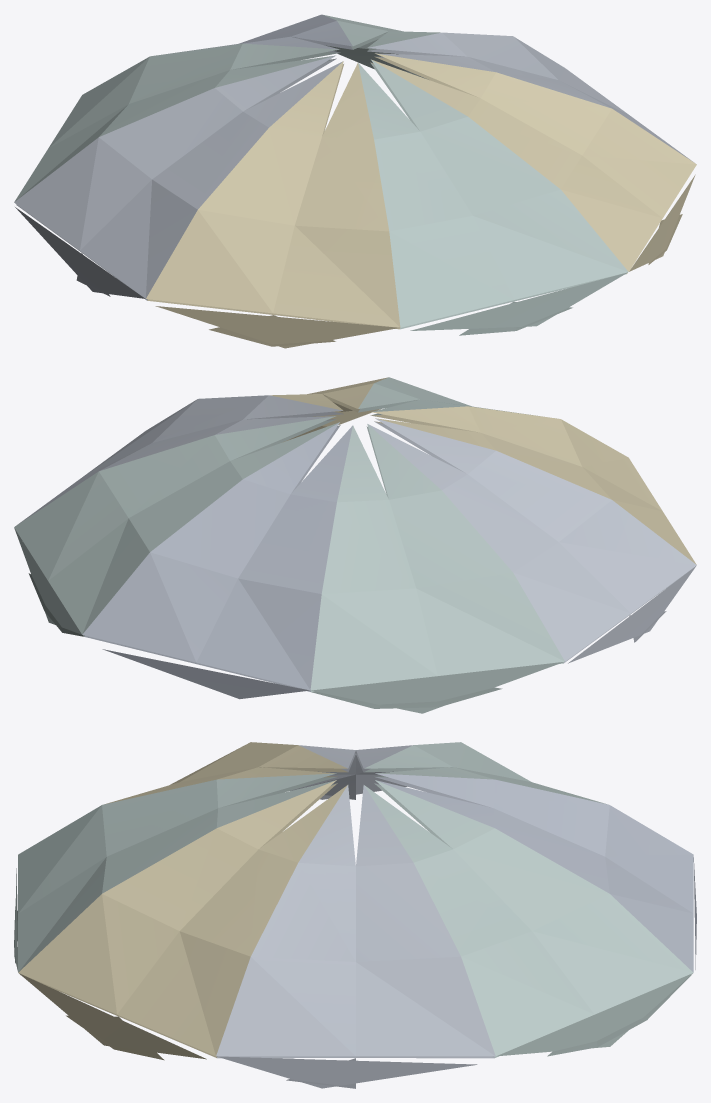
File: parasol.lod.glb
The picture shows the model from 3 angles, top to bottom: view 1: azimuth 30°, elevation 25°; view 2: azimuth 150°, elevation 25°; view 3: azimuth 270°, elevation 25°; orthographic projection. The views are drawn at different scales.
Visible parts, largest first — view 1: parasol; view 2: parasol; view 3: parasol.
Boxes of the visible parts, left/top/right/bottom form: parasol: left=14, top=14, right=696, bottom=348; parasol: left=14, top=377, right=696, bottom=713; parasol: left=14, top=742, right=696, bottom=1088.
Bounding box in the file's own units: 2.2 × 0.6144 × 2.19.
